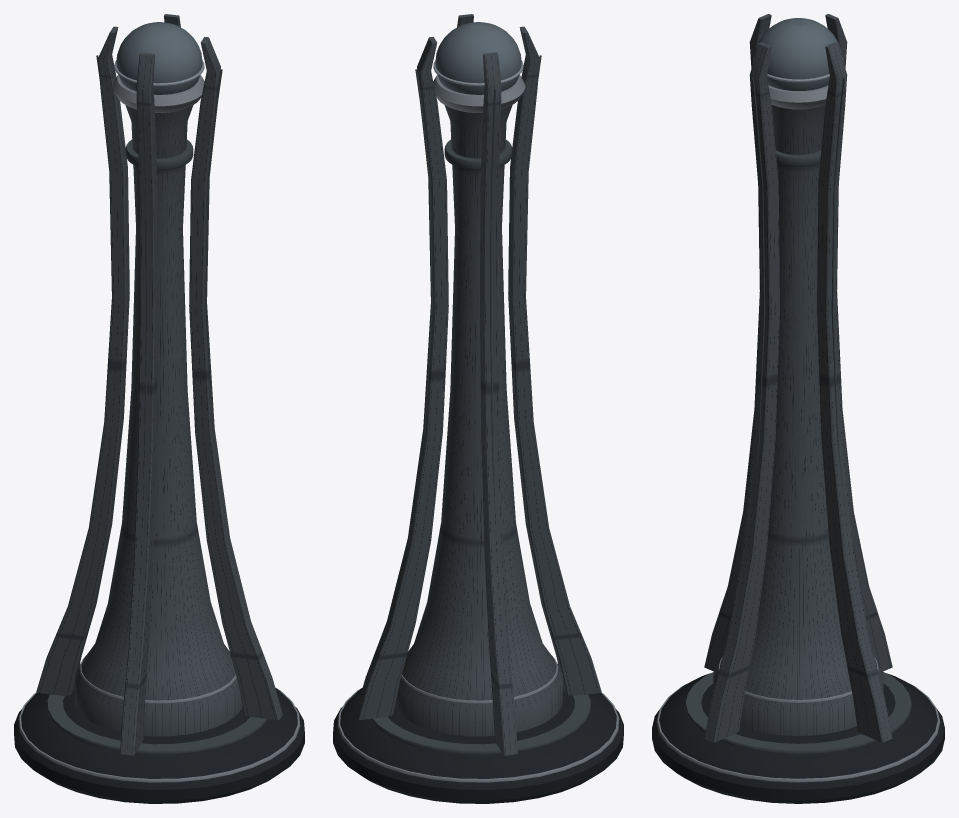
The model's file is NSB2201_source.obj.
3 renders of one model, left to right at view 1: azimuth 30°, elevation 25°; view 2: azimuth 150°, elevation 25°; view 3: azimuth 270°, elevation 25°, orthographic.
Visible parts, largest first — view 1: NSB2201; view 2: NSB2201; view 3: NSB2201.
Part boxes in pixels (x1,y1,x2,y2): NSB2201: [14, 14, 304, 803]; NSB2201: [333, 14, 623, 803]; NSB2201: [652, 14, 944, 803].
Size of the model in its own units: 66.67 by 182 by 66.67.
1 material, 1 textured.
